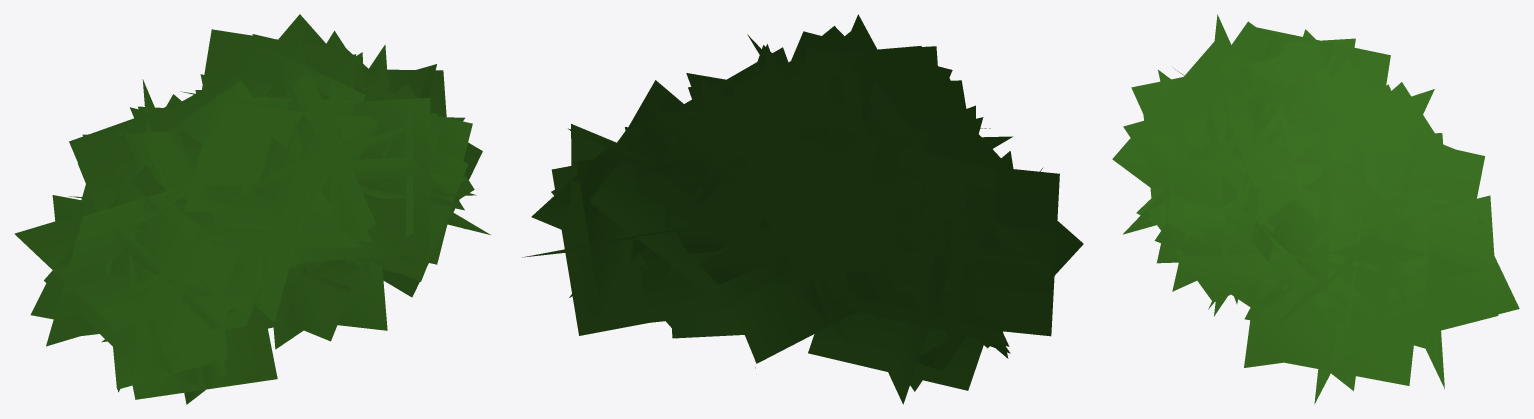
File: SM_bush_02.fbx
3 views of the same model, side by side, from view 1: azimuth 30°, elevation 25°; view 2: azimuth 150°, elevation 25°; view 3: azimuth 270°, elevation 25° (orthographic). The views are drawn at different scales.
Visible parts, largest first — view 1: bush_02; view 2: bush_02; view 3: bush_02.
Boxes of the visible parts, x1,y1,x2,y2 form: bush_02: [14, 14, 490, 404]; bush_02: [522, 14, 1083, 404]; bush_02: [1112, 14, 1519, 404].
Bounding box in the file's own units: 862 × 581 × 658.
